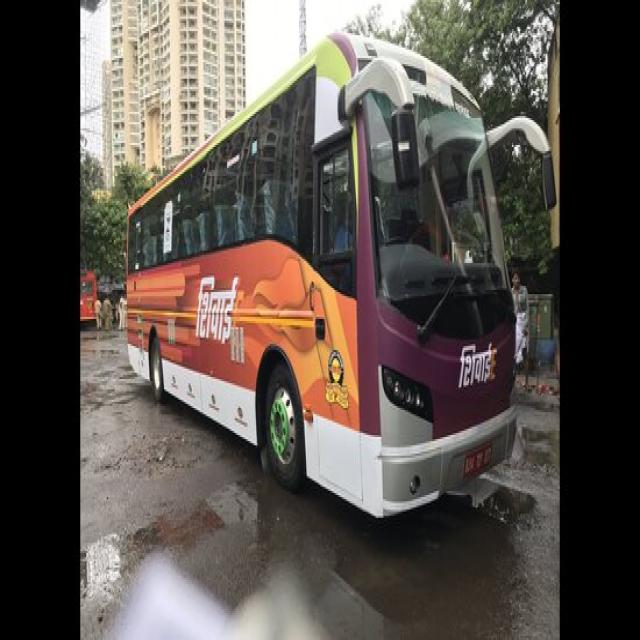bus: (112, 27, 561, 536)
